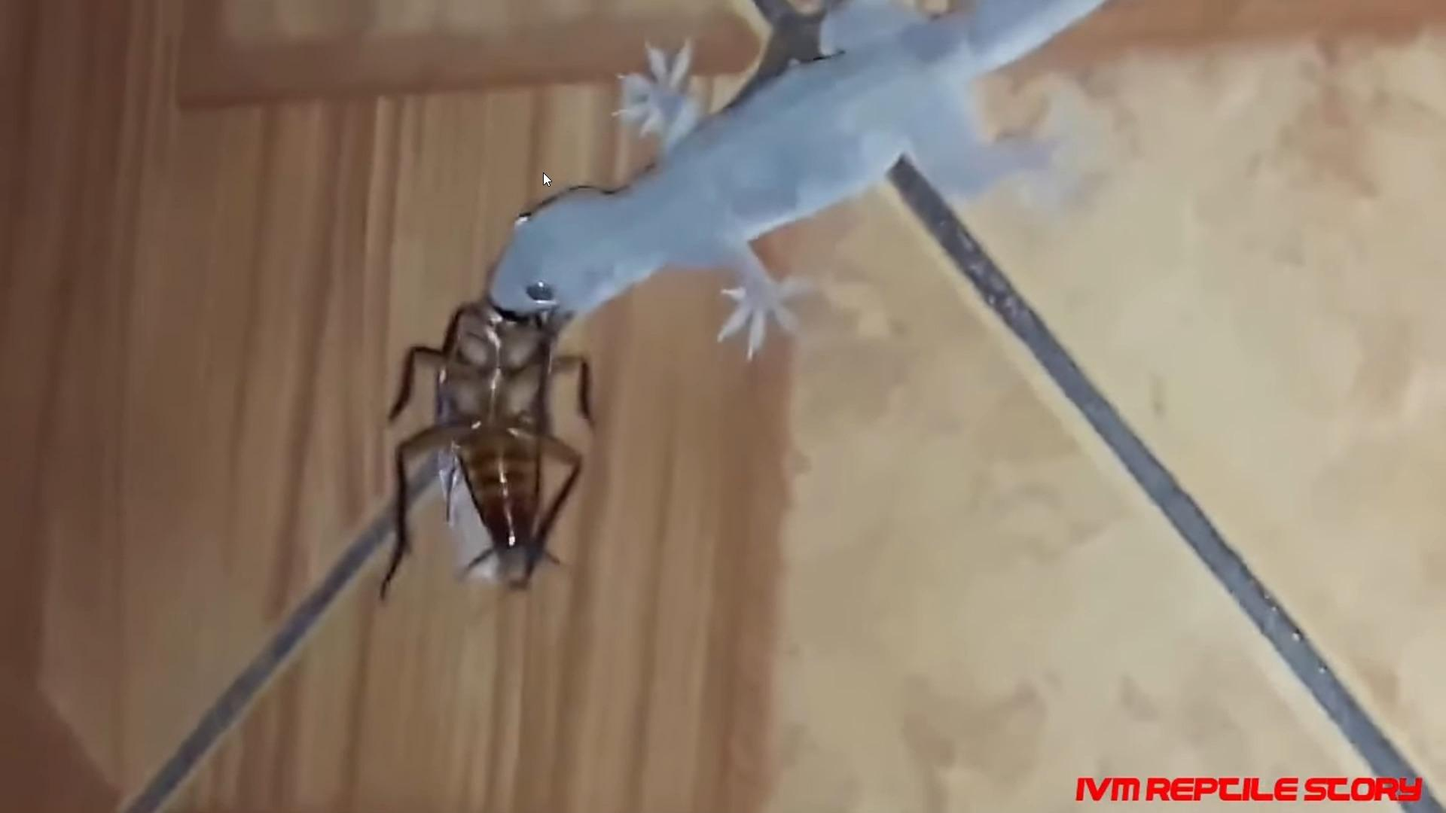cockroach: (371, 295, 594, 595)
lizard: (506, 12, 1022, 335)
